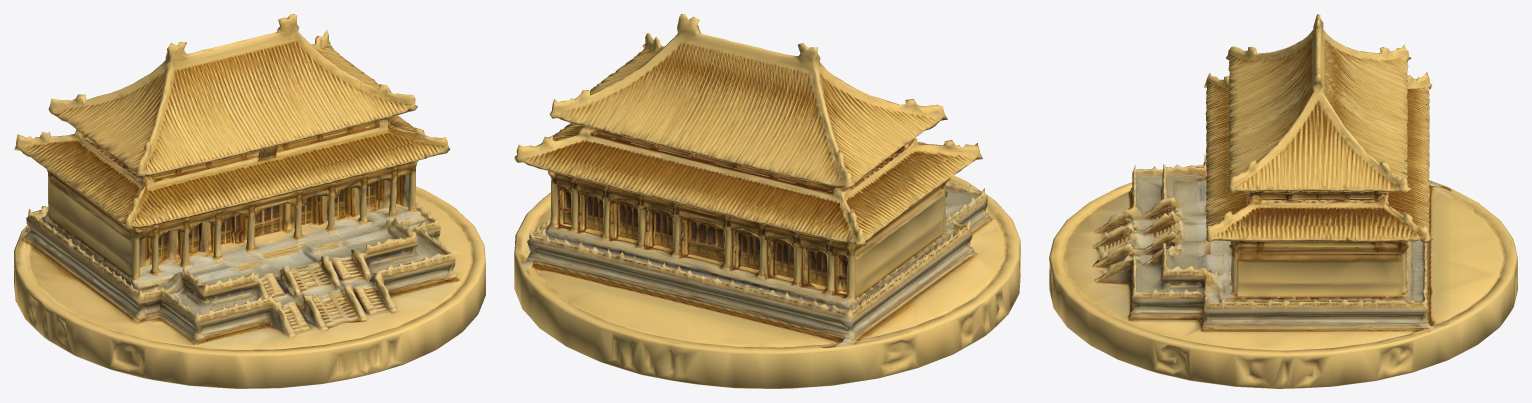
Rendered from forbidden_city_gold.glb.
The picture shows the model from 3 angles, left to right: view 1: azimuth 30°, elevation 25°; view 2: azimuth 150°, elevation 25°; view 3: azimuth 270°, elevation 25°; orthographic projection. The views are drawn at different scales.
Visible parts, largest first — view 1: Mesh_0; view 2: Mesh_0; view 3: Mesh_0.
Boxes of the visible parts, x1,y1,x2,y2 form: Mesh_0: (14,14,485,388); Mesh_0: (514,14,1020,388); Mesh_0: (1049,14,1517,388).
Bounding box in the file's own units: 1.91 × 1.11 × 1.91.
1 material, 1 textured.
